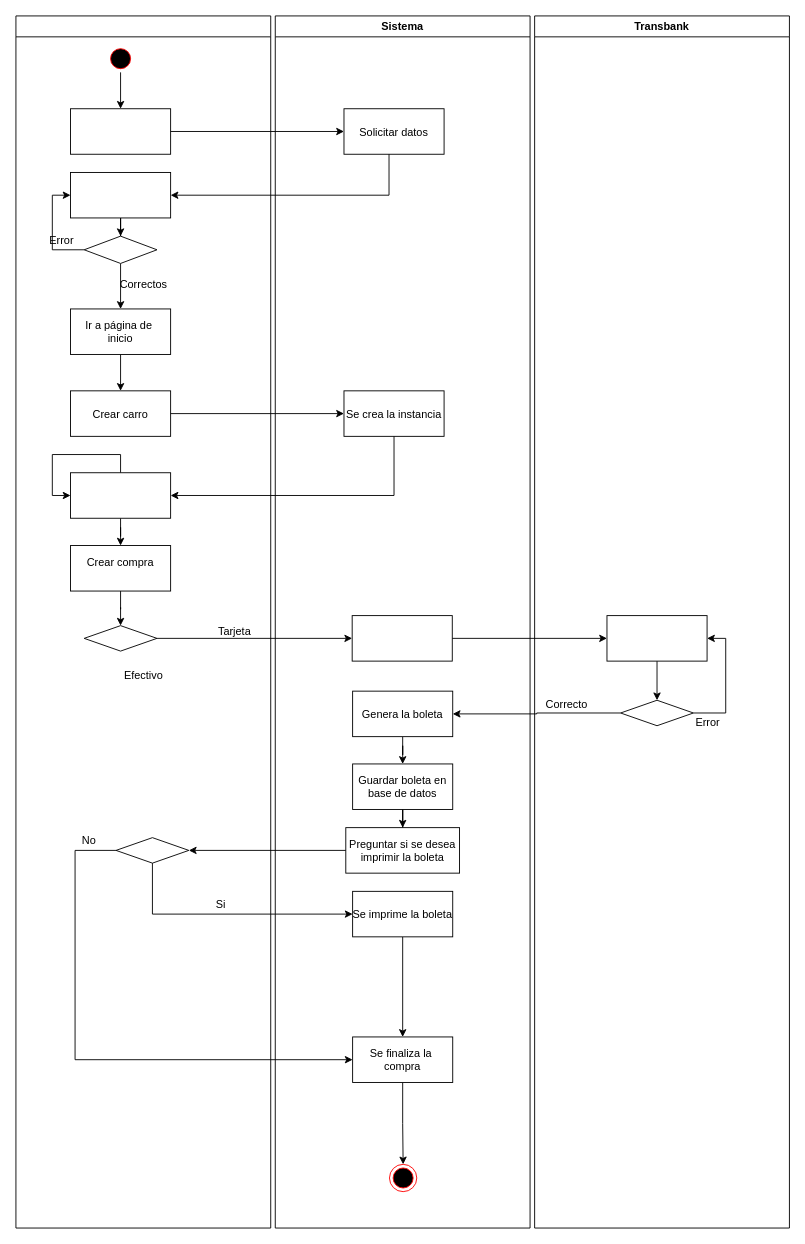
This 805x1244 diagram has some shape labels left out. Here are the shapes that lost their labels. From the top down, the box of each, then its label:
(70, 108, 171, 154): Inicio de sesion
(70, 172, 171, 218): Ingresar datos
(70, 472, 171, 518): Agregar objetos
(15, 15, 271, 1228): Usuario
(351, 615, 452, 661): Crear instancia de venta
(606, 615, 707, 661): Validar datos de tarjeta
